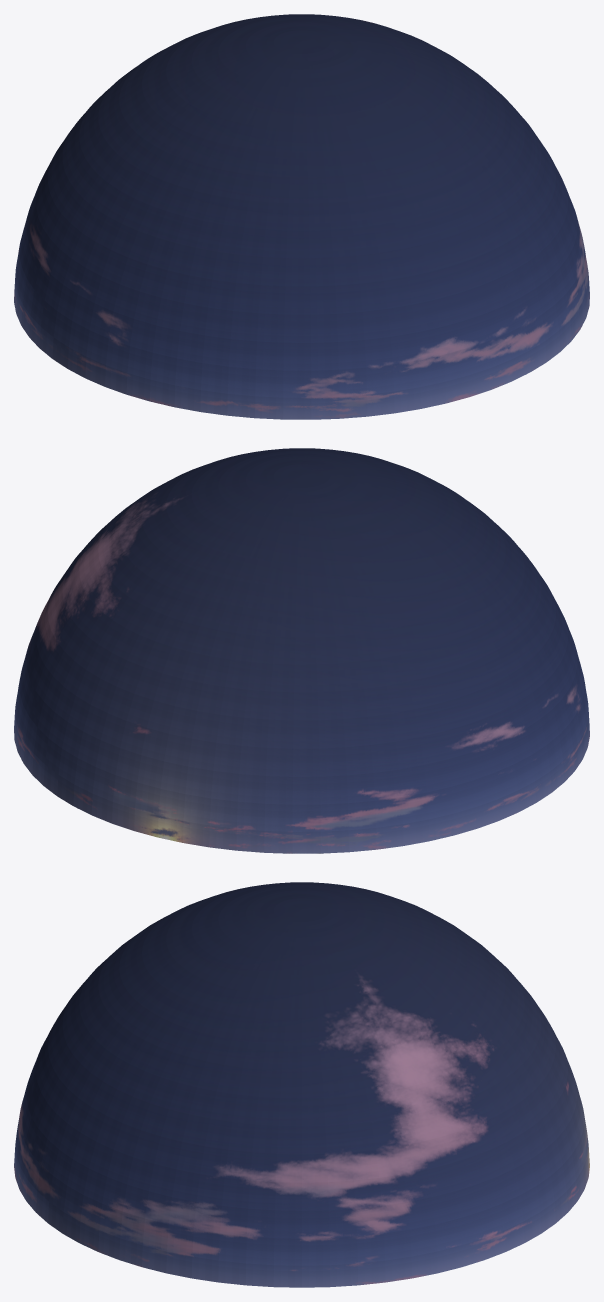
The model's file is sfere1.obj.
3 renders of one model, top to bottom at view 1: azimuth 30°, elevation 25°; view 2: azimuth 150°, elevation 25°; view 3: azimuth 270°, elevation 25°, orthographic.
Visible parts, largest first — view 1: Sphere; view 2: Sphere; view 3: Sphere.
Part boxes in pixels (<box>): Sphere: <box>14,14,589,419</box>; Sphere: <box>14,448,589,853</box>; Sphere: <box>14,882,589,1287</box>.
Bounding box in the file's own units: 97.13 × 47.77 × 97.13.
1 material, 1 textured.
